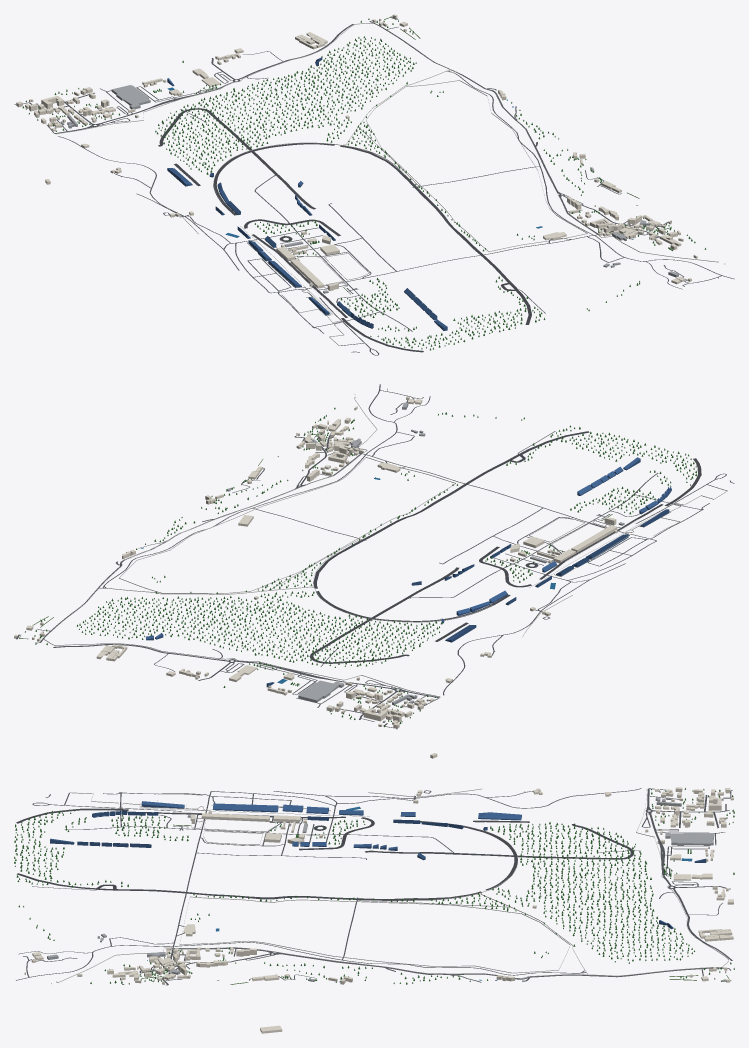
The model's file is monza_venue.glb.
3 renders of one model, top to bottom at view 1: azimuth 30°, elevation 25°; view 2: azimuth 150°, elevation 25°; view 3: azimuth 270°, elevation 25°, orthographic.
Parts seen in each view (by area): view 1: Venue_Trees, Venue_Buildings, Venue_Roads, Venue_PitLane, Venue_Walls, Venue_Grandstands, Venue_Buildings_Industrial; view 2: Venue_Trees, Venue_Buildings, Venue_Roads, Venue_Walls, Venue_PitLane, Venue_Grandstands, Venue_Buildings_Industrial; view 3: Venue_Trees, Venue_Roads, Venue_Buildings, Venue_Walls, Venue_Grandstands, Venue_PitLane, Venue_Buildings_Industrial.
Boxes of the visible parts, bbox=[...] form: Venue_Trees: bbox=[22, 18, 706, 350]; Venue_Buildings: bbox=[16, 14, 718, 290]; Venue_Roads: bbox=[14, 16, 734, 355]; Venue_PitLane: bbox=[158, 108, 531, 352]; Venue_Walls: bbox=[56, 23, 724, 345]; Venue_Grandstands: bbox=[167, 57, 447, 330]; Venue_Buildings_Industrial: bbox=[36, 85, 678, 293]; Venue_Trees: bbox=[25, 407, 697, 726]; Venue_Buildings: bbox=[14, 388, 617, 758]; Venue_Roads: bbox=[16, 384, 734, 729]; Venue_Walls: bbox=[44, 394, 727, 696]; Venue_PitLane: bbox=[309, 431, 701, 663]; Venue_Grandstands: bbox=[146, 457, 671, 687]; Venue_Buildings_Industrial: bbox=[227, 402, 624, 722]; Venue_Trees: bbox=[14, 788, 734, 984]; Venue_Roads: bbox=[16, 788, 732, 985]; Venue_Buildings: bbox=[24, 787, 733, 1033]; Venue_Walls: bbox=[51, 788, 728, 983]; Venue_Grandstands: bbox=[50, 801, 706, 929]; Venue_PitLane: bbox=[16, 808, 634, 900]; Venue_Buildings_Industrial: bbox=[47, 791, 723, 981].
Bounding box in the file's own units: 1529 × 220 × 2434.
